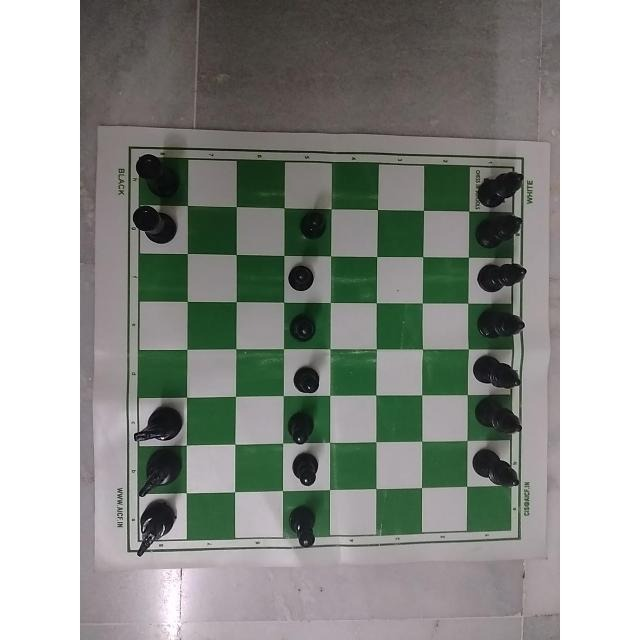black-bishop: (471, 440, 533, 491), (462, 398, 532, 442), (469, 157, 527, 207), (467, 349, 532, 393), (467, 213, 535, 252), (473, 253, 531, 294), (471, 302, 525, 346)
black-knight: (117, 446, 183, 504), (120, 505, 186, 563), (120, 396, 184, 446)
black-pawn: (282, 500, 325, 551), (280, 260, 331, 302), (294, 203, 333, 249), (284, 453, 325, 493), (278, 403, 317, 445), (287, 310, 324, 349), (293, 360, 327, 400)
black-rook: (117, 206, 190, 253), (127, 148, 177, 200)
